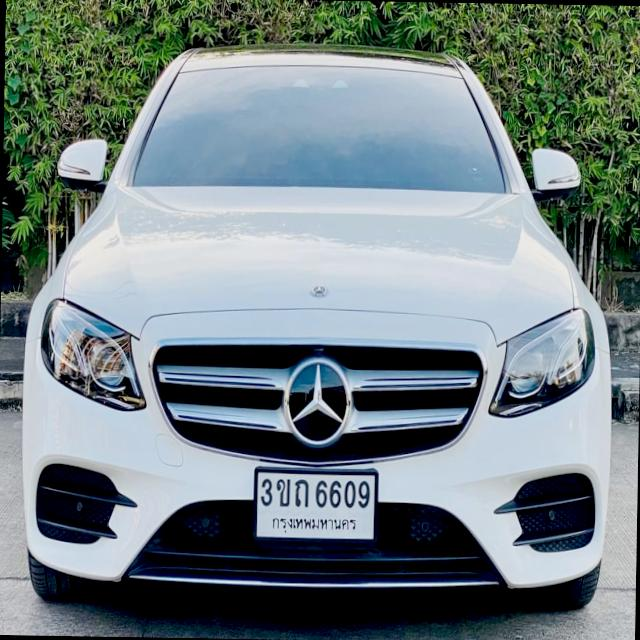license_plate: (252, 462, 378, 544)
